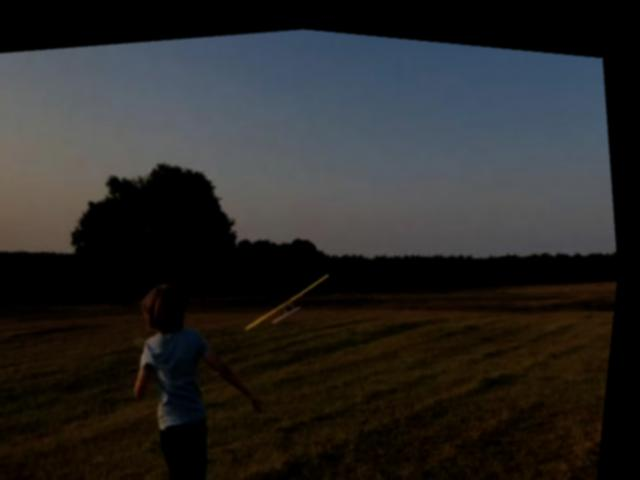uav: (239, 256, 343, 330)
